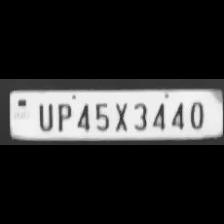0: (186, 98, 206, 130)
3: (128, 98, 148, 132)
4: (72, 100, 92, 132), (149, 99, 167, 131), (168, 100, 186, 130)
5: (91, 100, 111, 132)
P: (54, 100, 72, 132)
U: (33, 100, 55, 132)
X: (110, 98, 130, 132)
